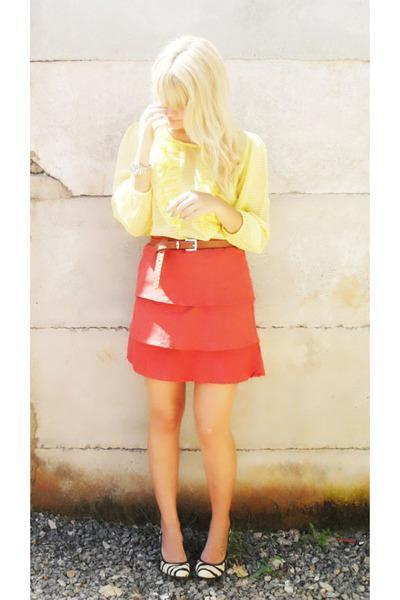long sleeve shirt: (97, 112, 287, 254)
skirt: (115, 236, 268, 388)
